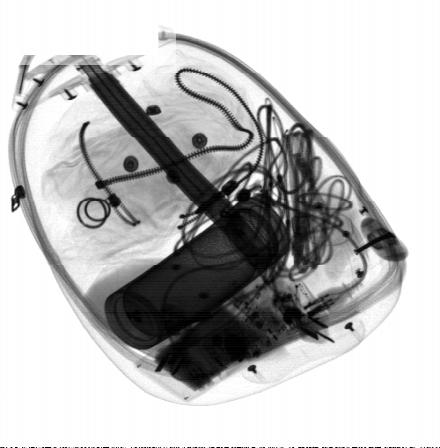Powerbank: (135, 280, 292, 403)
